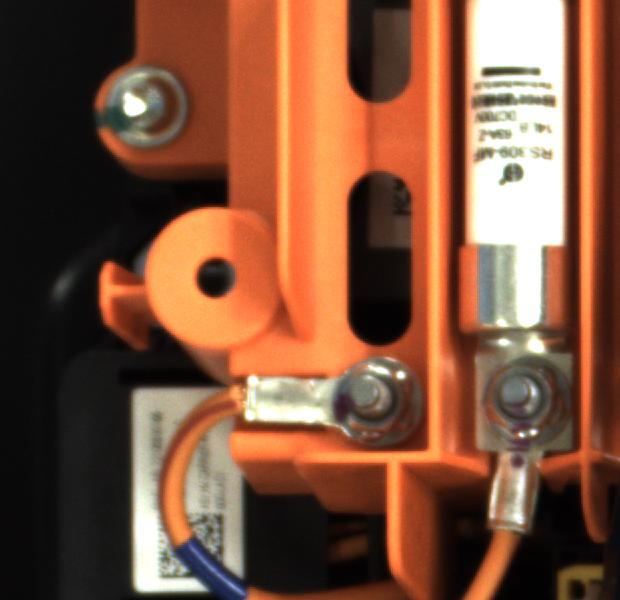screw_m: (87, 60, 209, 162)
screw_s: (328, 353, 419, 449), (485, 354, 570, 447)
